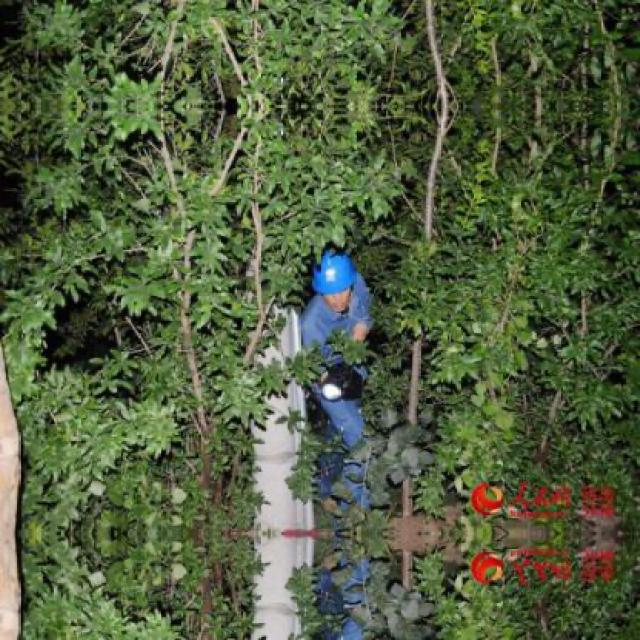helmet: (310, 248, 358, 313)
